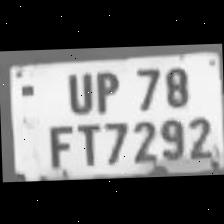2: (126, 114, 156, 164), (184, 111, 214, 161)
7: (127, 62, 162, 112), (98, 116, 128, 166)
8: (159, 60, 191, 106)
9: (155, 112, 185, 160)
F: (42, 117, 75, 169)
P: (90, 65, 122, 112)
T: (72, 117, 102, 167)
U: (60, 64, 96, 114)
